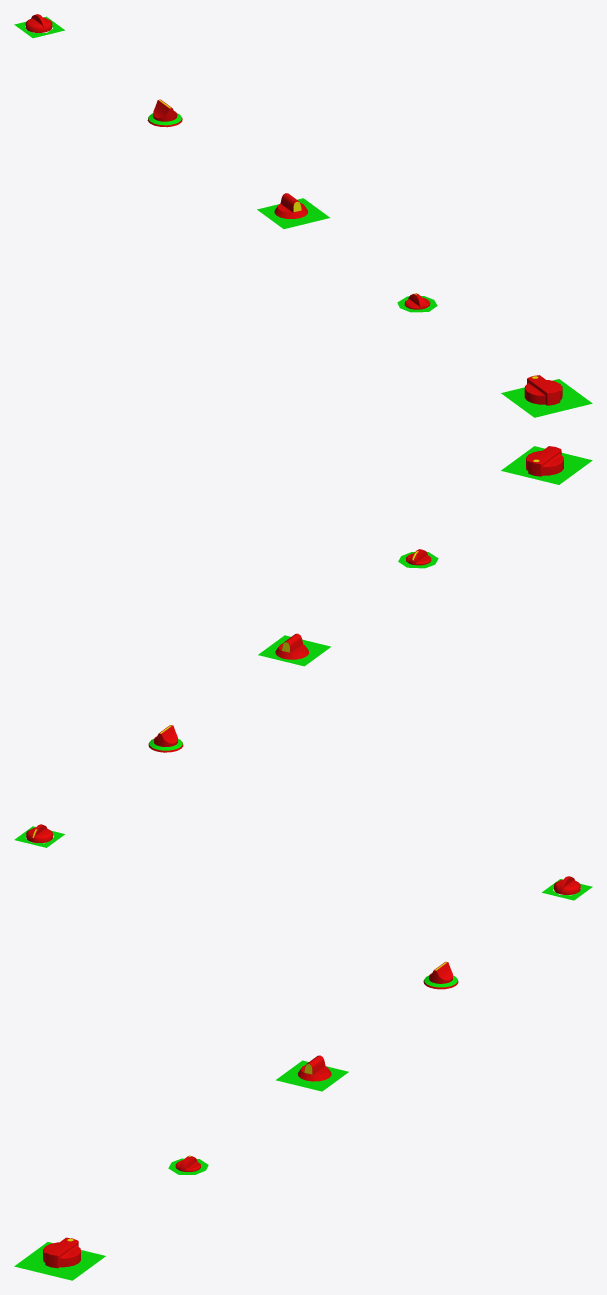
Rendered from MT_stove_knobs_grp.fbx.
3 views of the same model, one above another, from view 1: azimuth 30°, elevation 25°; view 2: azimuth 150°, elevation 25°; view 3: azimuth 330°, elevation 25° (orthographic).
Parts seen in each view (by area): view 1: stove_knob_1, stove_knob_3, stove_knob_5, stove_knob_4, stove_knob_2; view 2: stove_knob_1, stove_knob_3, stove_knob_5, stove_knob_4, stove_knob_2; view 3: stove_knob_1, stove_knob_3, stove_knob_5, stove_knob_4, stove_knob_2.
Boxes of the visible parts, bbox=[...] form: stove_knob_1: bbox=[501, 375, 592, 417]; stove_knob_3: bbox=[257, 193, 329, 228]; stove_knob_5: bbox=[14, 14, 64, 38]; stove_knob_4: bbox=[147, 99, 182, 127]; stove_knob_2: bbox=[397, 293, 437, 312]; stove_knob_1: bbox=[501, 446, 592, 484]; stove_knob_3: bbox=[258, 633, 330, 666]; stove_knob_5: bbox=[14, 824, 64, 847]; stove_knob_4: bbox=[148, 725, 183, 752]; stove_knob_2: bbox=[398, 549, 438, 568]; stove_knob_1: bbox=[14, 1237, 105, 1280]; stove_knob_3: bbox=[276, 1055, 348, 1091]; stove_knob_5: bbox=[542, 876, 592, 900]; stove_knob_4: bbox=[423, 961, 458, 989]; stove_knob_2: bbox=[168, 1155, 208, 1174].
Size of the model in its own units: 13.38 by 3.41 by 211.
